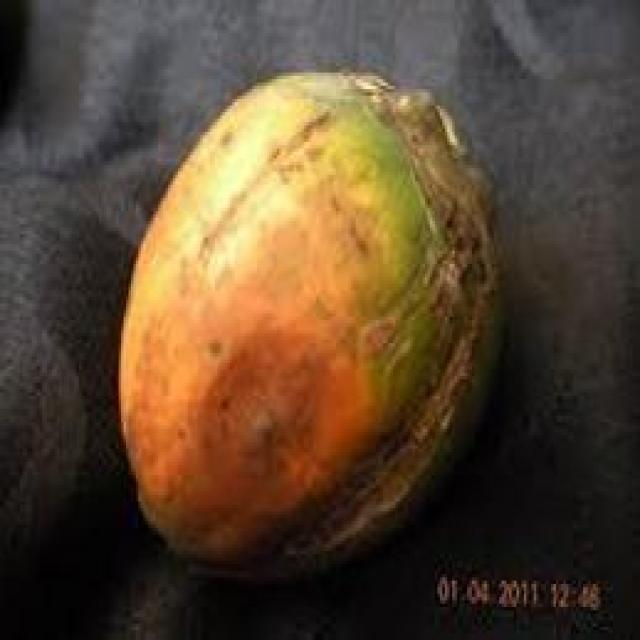good: (116, 73, 509, 587)
